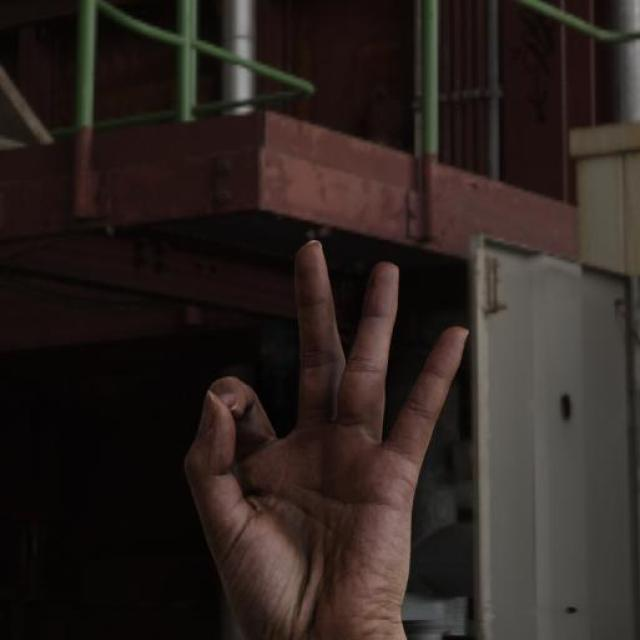F: (180, 237, 470, 640)
